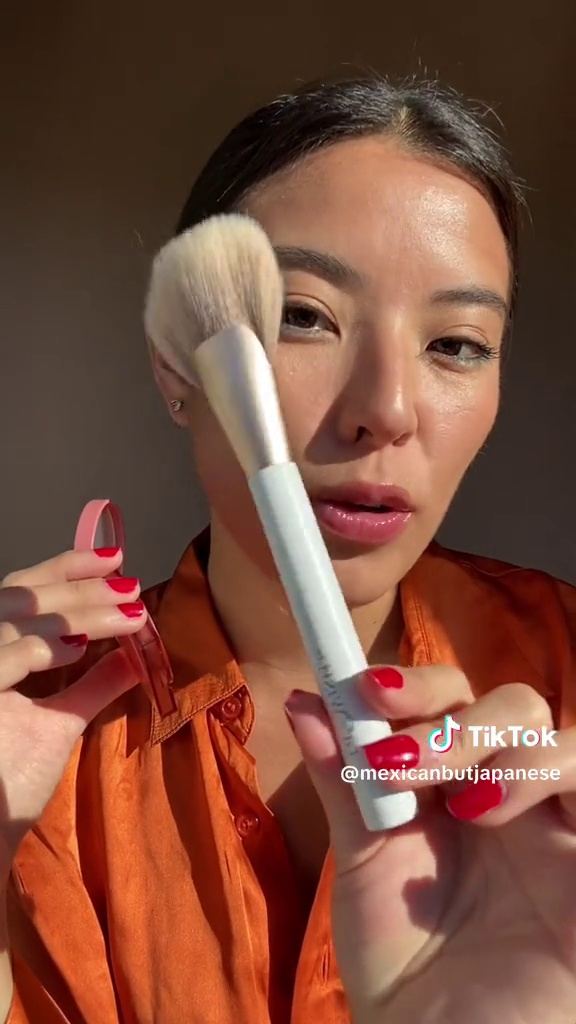train' :'yolo_data/train/images',: (139, 210, 420, 835)
